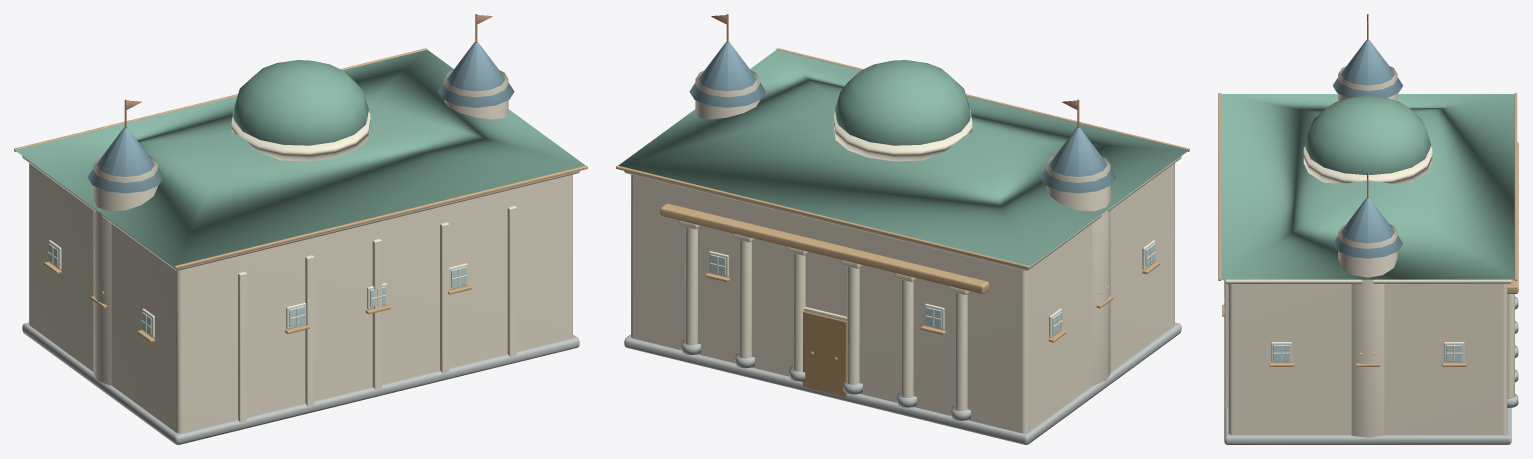
File: games.glb
3 renders of one model, left to right at view 1: azimuth 30°, elevation 25°; view 2: azimuth 150°, elevation 25°; view 3: azimuth 270°, elevation 25°, orthographic. The views are drawn at different scales.
Bounding box in the file's own units: 15.46 × 10.05 × 10.44.
